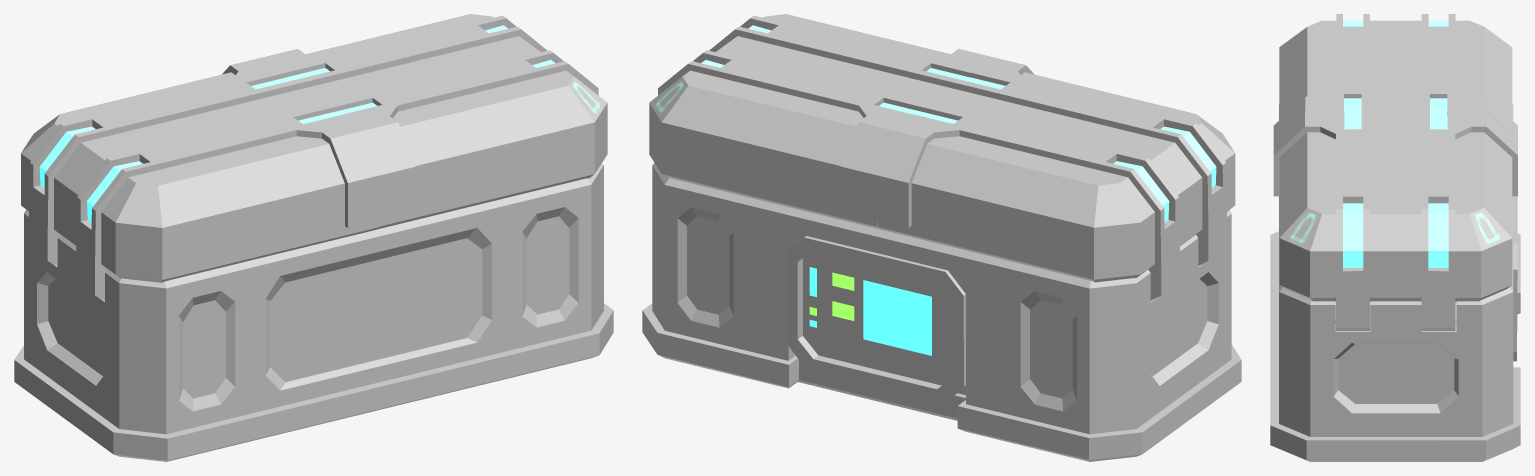
The model's file is entity346130.glb.
3 renders of one model, left to right at view 1: azimuth 30°, elevation 25°; view 2: azimuth 150°, elevation 25°; view 3: azimuth 270°, elevation 25°, orthographic. The views are drawn at different scales.
Visible parts, largest first — view 1: node_SM_Prop_Satellite_08 (5), node_SM_Prop_Satellite_08_Lid_01, node_SM_Prop_Satellite_08_Lid_02; view 2: node_SM_Prop_Satellite_08 (5), node_SM_Prop_Satellite_08_Lid_01, node_SM_Prop_Satellite_08_Lid_02; view 3: node_SM_Prop_Satellite_08_Lid_02, node_SM_Prop_Satellite_08 (5), node_SM_Prop_Satellite_08_Lid_01.
Part boxes in pixels (x1=…): node_SM_Prop_Satellite_08 (5): x1=14, y1=163, x2=613, y2=461; node_SM_Prop_Satellite_08_Lid_01: x1=21, y1=57, x2=381, y2=300; node_SM_Prop_Satellite_08_Lid_02: x1=264, y1=14, x2=607, y2=229; node_SM_Prop_Satellite_08 (5): x1=642, y1=163, x2=1241, y2=461; node_SM_Prop_Satellite_08_Lid_01: x1=874, y1=57, x2=1235, y2=300; node_SM_Prop_Satellite_08_Lid_02: x1=649, y1=14, x2=991, y2=229; node_SM_Prop_Satellite_08_Lid_02: x1=1273, y1=111, x2=1517, y2=330; node_SM_Prop_Satellite_08 (5): x1=1270, y1=104, x2=1520, y2=461; node_SM_Prop_Satellite_08_Lid_01: x1=1273, y1=14, x2=1517, y2=140.
Size of the model in its own units: 2.45 by 1.25 by 1.17.
